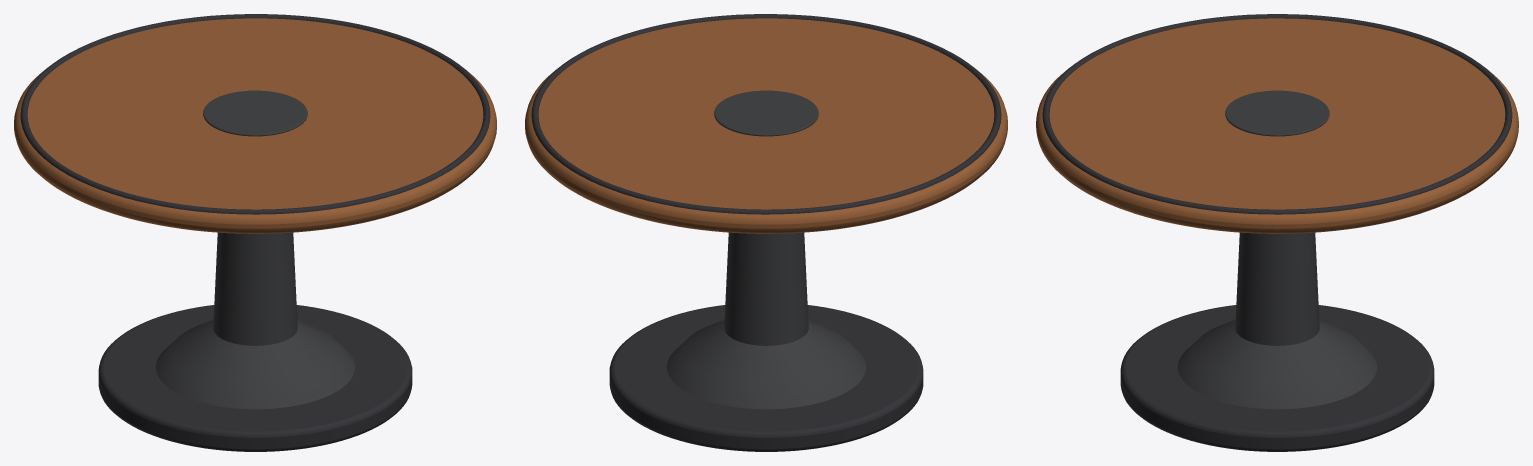
Rendered from mesa_redonda.glb.
The picture shows the model from 3 angles, left to right: view 1: azimuth 30°, elevation 25°; view 2: azimuth 150°, elevation 25°; view 3: azimuth 270°, elevation 25°; orthographic projection.
Visible parts, largest first — view 1: Mesa redonda de reunión; view 2: Mesa redonda de reunión; view 3: Mesa redonda de reunión.
Boxes of the visible parts, left/top/right/bottom form: Mesa redonda de reunión: left=14, top=14, right=496, bottom=451; Mesa redonda de reunión: left=525, top=14, right=1007, bottom=451; Mesa redonda de reunión: left=1036, top=14, right=1518, bottom=451.
Size of the model in its own units: 1.2 by 0.7544 by 1.2.
